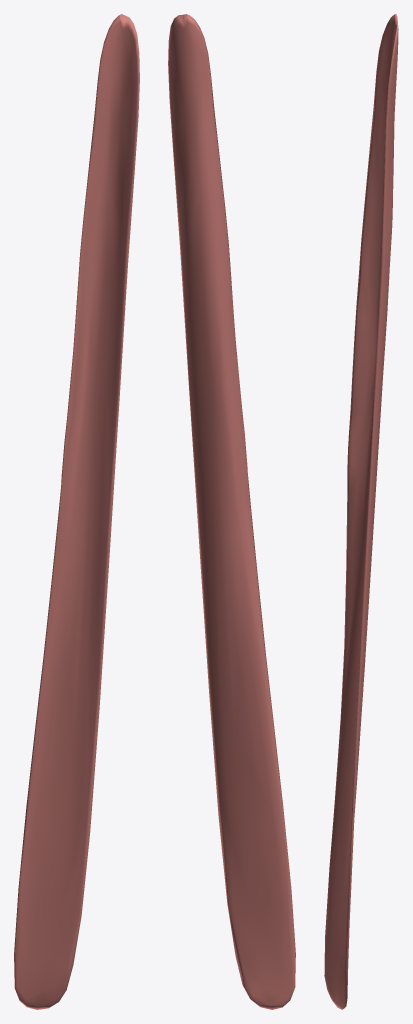
The picture shows the model from 3 angles, left to right: view 1: azimuth 30°, elevation 25°; view 2: azimuth 210°, elevation 25°; view 3: azimuth 330°, elevation 25°; orthographic projection. The views are drawn at different scales.
Visible parts, largest first — view 1: ZA_aefec4c533c41100; view 2: ZA_aefec4c533c41100; view 3: ZA_aefec4c533c41100.
Part boxes in pixels (<box>): ZA_aefec4c533c41100: <box>14,14,139,1009</box>; ZA_aefec4c533c41100: <box>168,14,295,1009</box>; ZA_aefec4c533c41100: <box>324,14,398,1009</box>.
Bounding box in the file's own units: 0.0164 × 0.1621 × 0.00986.
